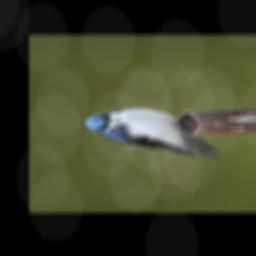Swallow: (83, 105, 222, 162)
